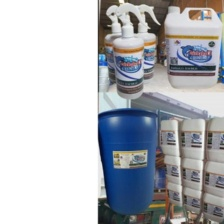cleaning_solution: (165, 5, 223, 91), (114, 3, 150, 101), (103, 0, 134, 87), (132, 1, 162, 82), (178, 117, 211, 161), (202, 116, 224, 164), (181, 156, 209, 192), (158, 118, 183, 156), (201, 158, 224, 198), (199, 190, 223, 224), (162, 153, 186, 184), (181, 184, 205, 214), (164, 180, 185, 208)
